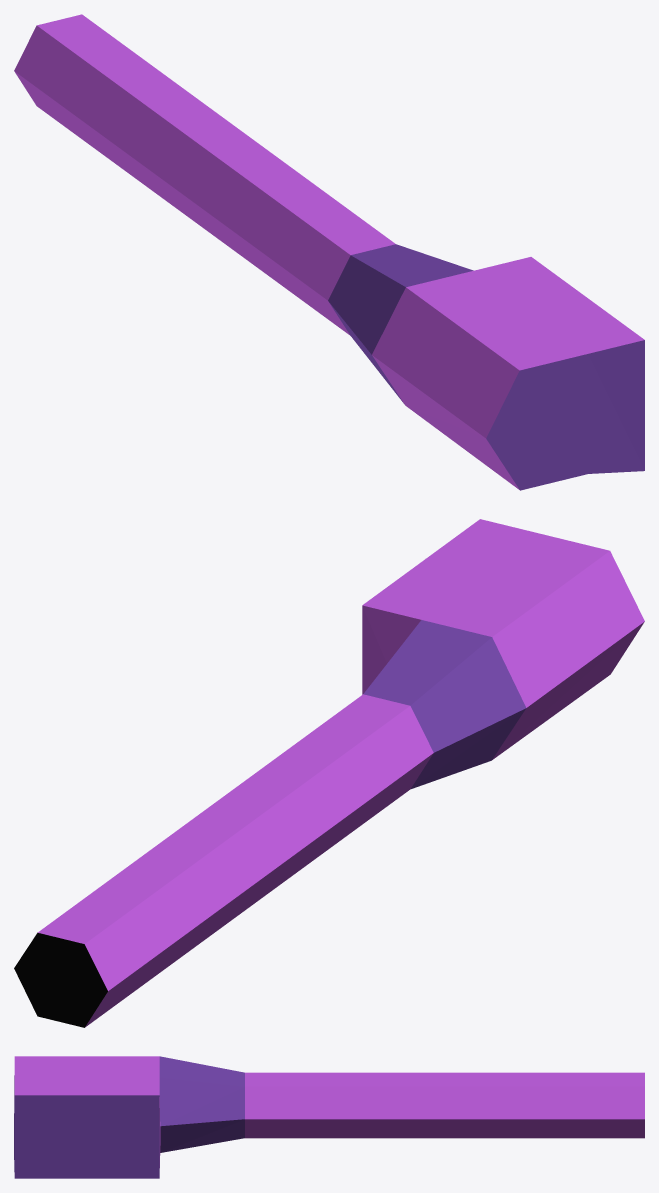
The model's file is leftArm.FBX.
3 renders of one model, top to bottom at view 1: azimuth 30°, elevation 25°; view 2: azimuth 150°, elevation 25°; view 3: azimuth 270°, elevation 25°, orthographic. The views are drawn at different scales.
Parts seen in each view (by area): view 1: VIFS002, VIFS001; view 2: VIFS002, VIFS001, VIFS003; view 3: VIFS002, VIFS001.
Part boxes in pixels (<box>): VIFS002: <box>14,14,644,489</box>; VIFS001: <box>328,244,644,490</box>; VIFS002: <box>38,519,644,1027</box>; VIFS001: <box>363,620,526,788</box>; VIFS003: <box>14,932,107,1027</box>; VIFS002: <box>14,1056,644,1167</box>; VIFS001: <box>14,1056,244,1178</box>.
Size of the model in its own units: 0.2061 by 0.1625 by 1.11.
